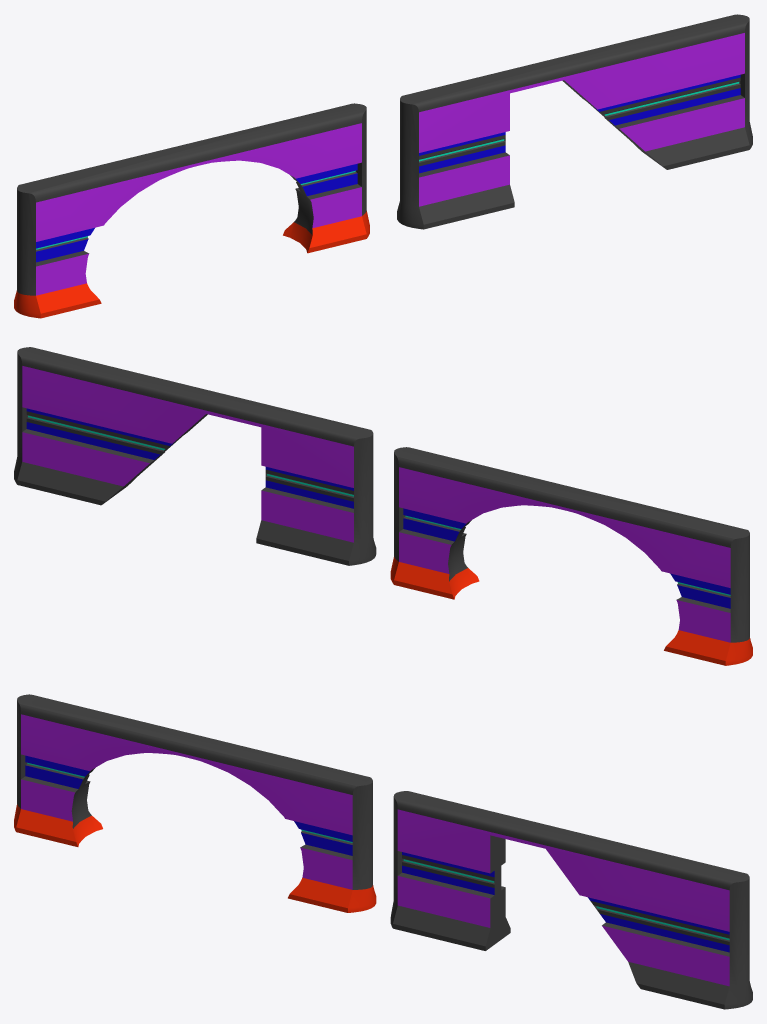
File: 2 Progeny Walls.FBX
The picture shows the model from 3 angles, top to bottom: view 1: azimuth 30°, elevation 25°; view 2: azimuth 150°, elevation 25°; view 3: azimuth 330°, elevation 25°; orthographic projection.
Parts seen in each view (by area): view 1: Box006, Box009; view 2: Box006, Box009; view 3: Box006, Box009.
Part boxes in pixels (x1,y1,x2,y2): Box006: (397, 14, 752, 229); Box009: (14, 103, 369, 318); Box006: (14, 347, 376, 565); Box009: (390, 447, 752, 665); Box006: (390, 791, 752, 1009); Box009: (14, 694, 376, 912).
Size of the model in its own units: 24.49 by 3.96 by 1.81.
